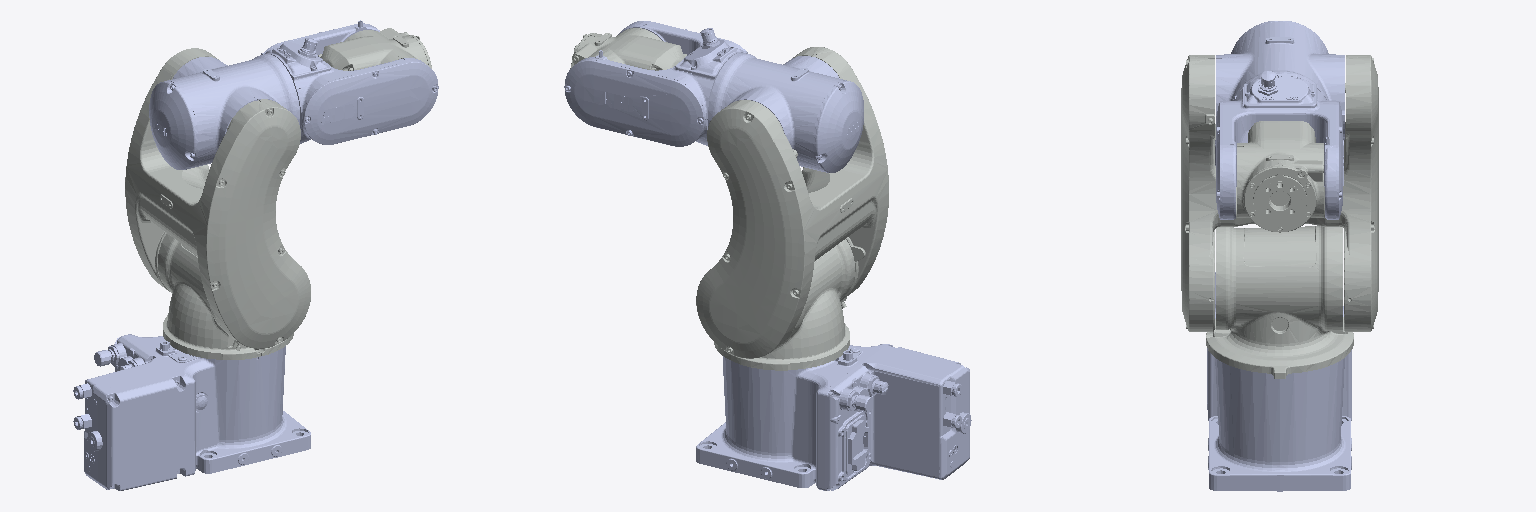
robot.urdf — irb1010:
<?xml version="1.0" encoding="utf-8"?>
<robot name="irb1010">
  <!-- link list -->
  <link name="world"/>
  <link name="base_link">
    <inertial>
      <origin xyz="-0.0477018268428046 -0.00748897150438554 0.0595083401841374" rpy="0 0 0" />
      <mass value="2.62201256192641" />
      <inertia ixx="0.00618552772330436" ixy="-0.0018216989744245" ixz="9.51101435511174E-05" iyy="0.0136701899390924" iyz="-1.78837823654285E-05" izz="0.013435817643367" />
    </inertial>
    <visual>
      <origin xyz="0 0 0" rpy="0 0 0" />
      <geometry>
        <mesh filename="package://abb_irb1010_support/meshes/base_link.stl" />
      </geometry>
      <material name="">
        <color rgba="0.792156862745098 0.819607843137255 0.933333333333333 1" />
      </material>
    </visual>
    <collision>
      <origin xyz="0 0 0" rpy="0 0 0" />
      <geometry>
        <mesh filename="package://abb_irb1010_support/meshes/base_link.stl" />
      </geometry>
    </collision>
  </link>
  <link name="link_1">
    <inertial>
      <origin xyz="-0.000243486008799421 -0.00258297210697711 0.0536491669768631" rpy="0 0 0" />
      <mass value="1.15257741799731" />
      <inertia ixx="0.00197166163900197" ixy="3.06959113229131E-06" ixz="1.26687904611061E-05" iyy="0.00244345468490631" iyz="-7.27549711855021E-05" izz="0.00213544911435498" />
    </inertial>
    <visual>
      <origin xyz="0 0 0" rpy="0 0 0" />
      <geometry>
        <mesh filename="package://abb_irb1010_support/meshes/link_1.stl" />
      </geometry>
      <material name="">
        <color rgba="0.780392156862745 0.8 0.788235294117647 1" />
      </material>
    </visual>
    <collision>
      <origin xyz="0 0 0" rpy="0 0 0" />
      <geometry>
        <mesh filename="package://abb_irb1010_support/meshes/link_1.stl" />
      </geometry>
    </collision>
  </link>
  <link name="link_2">
    <inertial>
      <origin xyz="-0.000700296823744839 -0.0207873490278622 0.0798317268317328" rpy="0 0 0" />
      <mass value="1.89213376263057" />
      <inertia ixx="0.00926552128243312" ixy="3.88497645281026E-06" ixz="-5.34204676884248E-05" iyy="0.016368426468137" iyz="0.000344747536003539" izz="0.0101559279372032" />
    </inertial>
    <visual>
      <origin xyz="0 0 0" rpy="0 0 0" />
      <geometry>
        <mesh filename="package://abb_irb1010_support/meshes/link_2.stl" />
      </geometry>
      <material name="">
        <color rgba="0.780392156862745 0.8 0.788235294117647 1" />
      </material>
    </visual>
    <collision>
      <origin xyz="0 0 0" rpy="0 0 0" />
      <geometry>
        <mesh filename="package://abb_irb1010_support/meshes/link_2.stl" />
      </geometry>
    </collision>
  </link>
  <link name="link_3">
    <inertial>
      <origin xyz="0.000196552091334068 -0.00698287965496591 -0.000215387759845198" rpy="0 0 0" />
      <mass value="1.11833348226058" />
      <inertia ixx="0.00209584031750101" ixy="-2.18746783247141E-06" ixz="2.08401524621663E-06" iyy="0.00160782503616012" iyz="5.39668579976234E-06" izz="0.00245250454460518" />
    </inertial>
    <visual>
      <origin xyz="0 0 0" rpy="0 0 0" />
      <geometry>
        <mesh filename="package://abb_irb1010_support/meshes/link_3.stl" />
      </geometry>
      <material name="">
        <color rgba="0.792156862745098 0.819607843137255 0.933333333333333 1" />
      </material>
    </visual>
    <collision>
      <origin xyz="0 0 0" rpy="0 0 0" />
      <geometry>
        <mesh filename="package://abb_irb1010_support/meshes/link_3.stl" />
      </geometry>
    </collision>
  </link>
  <link name="link_4">
    <inertial>
      <origin xyz="0.00124140598887856 0.0560078303491151 0.00172641764424308" rpy="0 0 0" />
      <mass value="0.754103603850556" />
      <inertia ixx="0.00171910624827954" ixy="-2.95452274446574E-05" ixz="8.17061904210869E-08" iyy="0.00148924979043866" iyz="3.12748239306282E-05" izz="0.00246285054142673" />
    </inertial>
    <visual>
      <origin xyz="0 0 0" rpy="0 0 0" />
      <geometry>
        <mesh filename="package://abb_irb1010_support/meshes/link_4.stl" />
      </geometry>
      <material name="">
        <color rgba="0.792156862745098 0.819607843137255 0.933333333333333 1" />
      </material>
    </visual>
    <collision>
      <origin xyz="0 0 0" rpy="0 0 0" />
      <geometry>
        <mesh filename="package://abb_irb1010_support/meshes/link_4.stl" />
      </geometry>
    </collision>
  </link>
  <link name="link_5">
    <inertial>
      <origin xyz="-0.000509961578281981 -0.0126608970350069 0.000146093113727597" rpy="0 0 0" />
      <mass value="0.502565444381233" />
      <inertia ixx="0.000594477811604141" ixy="-2.88470769574446E-06" ixz="2.05945348977693E-06" iyy="0.000421588857458291" iyz="-3.03502462127774E-06" izz="0.000622894566183076" />
    </inertial>
    <visual>
      <origin xyz="0 0 0" rpy="0 0 0" />
      <geometry>
        <mesh filename="package://abb_irb1010_support/meshes/link_5.stl" />
      </geometry>
      <material name="">
        <color rgba="0.780392156862745 0.8 0.788235294117647 1" />
      </material>
    </visual>
    <collision>
      <origin xyz="0 0 0" rpy="0 0 0" />
      <geometry>
        <mesh filename="package://abb_irb1010_support/meshes/link_5.stl" />
      </geometry>
    </collision>
  </link>
  <link name="link_6">
    <inertial>
      <origin xyz="0 0.00947842779289376 -2.4780057672924E-05" rpy="0 0 0" />
      <mass value="0.0230010103100166" />
      <inertia ixx="3.59103278856139E-06" ixy="3.0836997637278E-22" ixz="-1.33812873546741E-21" iyy="5.64116121551831E-06" iyz="-1.53788486719142E-09" izz="3.57573750212704E-06" />
    </inertial>
    <visual>
      <origin xyz="0 0 0" rpy="0 0 0" />
      <geometry>
        <mesh filename="package://abb_irb1010_support/meshes/link_6.stl" />
      </geometry>
      <material name="">
        <color rgba="0.780392156862745 0.8 0.788235294117647 1" />
      </material>
    </visual>
    <collision>
      <origin xyz="0 0 0" rpy="0 0 0" />
      <geometry>
        <mesh filename="package://abb_irb1010_support/meshes/link_6.stl" />
      </geometry>
    </collision>
  </link>
  <!-- end of link list -->
  <!-- joint list -->
  <joint name="to_world" type="fixed">
    <parent link="world"/>
    <child link="base_link"/>
    <origin rpy="0 0 0" xyz="0 0 0"/>
  </joint>
  <joint name="joint_1" type="revolute">
    <origin xyz="0.000606005054988645 -4.32268720191864E-05 0.122" rpy="0 0 -1.57014629859845" />
    <parent link="base_link" />
    <child link="link_1" />
    <axis xyz="0 0 1" />
    <limit effort="1000" lower="-2.967059728" upper="2.967059728" velocity="5.585"/>
  </joint>
  <joint name="joint_2" type="revolute">
    <origin xyz="0.000500779975781018 0 0.0679999999999983" rpy="0 0 0" />
    <parent link="link_1" />
    <child link="link_2" />
    <axis xyz="-1 0 0" />
    <limit effort="1000" lower="-1.308996975" upper="2.181661625" velocity="5.585"/>
  </joint>
  <joint name="joint_3" type="revolute">
    <origin xyz="-0.000850000000000684 0 0.184995771104224" rpy="0 0 0" />
    <parent link="link_2" />
    <child link="link_3" />
    <axis xyz="-1 0 0" />
    <limit effort="1000" lower="-3.14159274" upper="0.87266465" velocity="6.545"/>
  </joint>
  <joint name="joint_4" type="revolute">
    <origin xyz="0.00034999999999985 0.0553000000000001 0" rpy="0 0 0" />
    <parent link="link_3" />
    <child link="link_4" />
    <axis xyz="0 1 0" />
    <limit effort="1000" lower="-2.967059728" upper="2.967059728" velocity="8.727"/>
  </joint>
  <joint name="joint_5" type="revolute">
    <origin xyz="-0.000349999999999628 0.129708443596452 0" rpy="0 0 0" />
    <parent link="link_4" />
    <child link="link_5" />
    <axis xyz="-1 0 0" />
    <limit effort="1000" lower="-2.181661625" upper="2.181661625" velocity="8.203"/>
  </joint>
  <joint name="joint_6" type="revolute">
    <origin xyz="0.000349999999999628 0.0255915564035484 0" rpy="0 0 0" />
    <parent link="link_5" />
    <child link="link_6" />
    <axis xyz="0 1 0" />
    <limit effort="1000" lower="-6.28" upper="6.28" velocity="8.727"/>
  </joint>
  <!-- end of joint list -->
  <!-- ROS-Industrial 'base' frame- base_link to ABB World Coordinates transform -->
  <link name="base"/>
  <joint name="base_link-base" type="fixed">
    <origin rpy="0 0 0" xyz="0 0 0"/>
    <parent link="base_link"/>
    <child link="base"/>
  </joint>
  <!-- ROS-Industrial 'flange' frame- attachment point for EEF models -->
  <link name="flange"/>
  <joint name="joint_6-flange" type="fixed">
    <origin rpy="0 0 1.5707963267948966" xyz="0 0.0194 0"/>
    <parent link="link_6"/>
    <child link="flange"/>
  </joint>
  <!-- ROS-Industrial 'tool0' frame- all-zeros tool frame -->
  <link name="tool0"/>
  <joint name="flange-tool0" type="fixed">
    <origin rpy="0 1.5707963267948966 0" xyz="0 0 0"/>
    <parent link="flange"/>
    <child link="tool0"/>
  </joint>
  <ros2_control name="ABBMultiInterfaceHardware" type="system">
    <hardware>
      <plugin>abb_hardware_interface/ABBSystemHardware</plugin>
      <!-- If false, the robot description required for EGM connection-->
      <!-- will be generated as per joint information listed below. -->
      <!-- If true, the robot description will be generated by retrieving -->
      <!-- information from the ABB controller via RWS. -->
      <param name="configure_via_rws">True</param>
      <param name="rws_port">80</param>
      <param name="rws_ip">None</param>
      <!-- The following parameter is used for non-MultiMove only -->
      <param name="egm_port">6511</param>
      <!-- The following parameters are used for the MultiMove example only -->
      <!-- <param name="rob1egm_port">6511</param> -->
      <!-- <param name="extaxegm_port">6512</param> -->
    </hardware>
    <joint name="joint_1">
      <command_interface name="position">
        <param name="min">-2.967059728</param>
        <param name="max">2.967059728</param>
      </command_interface>
      <command_interface name="velocity"/>
      <state_interface name="position">
        <param name="initial_value">0.0</param>
      </state_interface>
      <state_interface name="velocity"/>
    </joint>
    <joint name="joint_2">
      <command_interface name="position">
        <param name="min">-1.308996975</param>
        <param name="max">2.181661625</param>
      </command_interface>
      <command_interface name="velocity"/>
      <state_interface name="position">
        <param name="initial_value">0.0</param>
      </state_interface>
      <state_interface name="velocity"/>
    </joint>
    <joint name="joint_3">
      <command_interface name="position">
        <param name="min">-3.14159274</param>
        <param name="max">0.87266465</param>
      </command_interface>
      <command_interface name="velocity"/>
      <state_interface name="position">
        <param name="initial_value">0.0</param>
      </state_interface>
      <state_interface name="velocity"/>
    </joint>
    <joint name="joint_4">
      <command_interface name="position">
        <param name="min">-2.967059728</param>
        <param name="max">2.967059728</param>
      </command_interface>
      <command_interface name="velocity"/>
      <state_interface name="position">
        <param name="initial_value">0.0</param>
      </state_interface>
      <state_interface name="velocity"/>
    </joint>
    <joint name="joint_5">
      <command_interface name="position">
        <param name="min">-2.181661625</param>
        <param name="max">2.181661625</param>
      </command_interface>
      <command_interface name="velocity"/>
      <state_interface name="position">
        <param name="initial_value">0.0</param>
      </state_interface>
      <state_interface name="velocity"/>
    </joint>
    <joint name="joint_6">
      <command_interface name="position">
        <param name="min">-6.28</param>
        <param name="max">6.28</param>
      </command_interface>
      <command_interface name="velocity"/>
      <state_interface name="position">
        <param name="initial_value">0.0</param>
      </state_interface>
      <state_interface name="velocity"/>
    </joint>
  </ros2_control>
</robot>

--- Facts derived from the render (not from the file) ---
Views: 3 orthographic renders of the robot side by side, from view 1: azimuth 30°, elevation 25°; view 2: azimuth 150°, elevation 25°; view 3: azimuth 270°, elevation 25°.
Robot: irb1010 — 11 links, 10 joints (6 revolute, 4 fixed); root link world; default pose: all joints at 0.
Links seen in each view (by area): view 1: link_2, base_link, link_4, link_3, link_1, link_5; view 2: link_2, base_link, link_4, link_3, link_1, link_5; view 3: link_2, link_1, base_link, link_4, link_3, link_5, link_6.
Boxes of the visible links, <box> form: link_2: <box>125,48,310,350</box>; base_link: <box>73,334,310,490</box>; link_4: <box>261,20,438,144</box>; link_3: <box>149,54,299,169</box>; link_1: <box>158,233,293,359</box>; link_5: <box>318,28,431,70</box>; link_2: <box>696,47,888,358</box>; base_link: <box>696,344,971,490</box>; link_4: <box>564,21,747,146</box>; link_3: <box>707,53,863,172</box>; link_1: <box>714,239,854,370</box>; link_5: <box>570,28,686,70</box>; link_2: <box>1181,55,1378,331</box>; link_1: <box>1206,226,1353,378</box>; base_link: <box>1207,272,1351,491</box>; link_4: <box>1215,71,1343,219</box>; link_3: <box>1216,21,1344,139</box>; link_5: <box>1237,121,1323,232</box>; link_6: <box>1253,167,1306,224</box>.
Bounding box of the posed robot: 0.4235 × 0.184 × 0.4429 m (x, y, z).
Meshes: 7 distinct files referenced, 7 mesh visuals loaded (7 binary STL).
